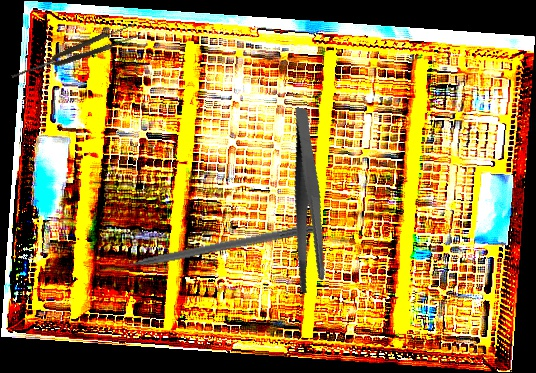Dressing Forceps: (258, 106, 358, 297)
Pusher: (100, 221, 315, 275)
Tissue Forceps: (8, 22, 141, 84)
